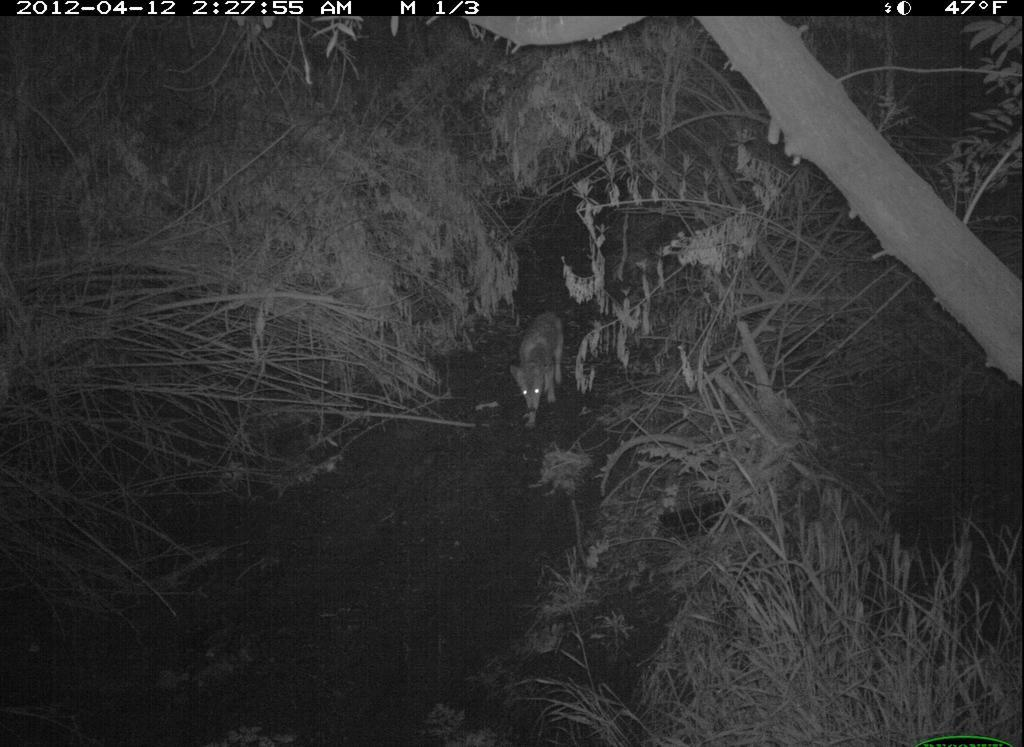coyote: (497, 306, 575, 439)
